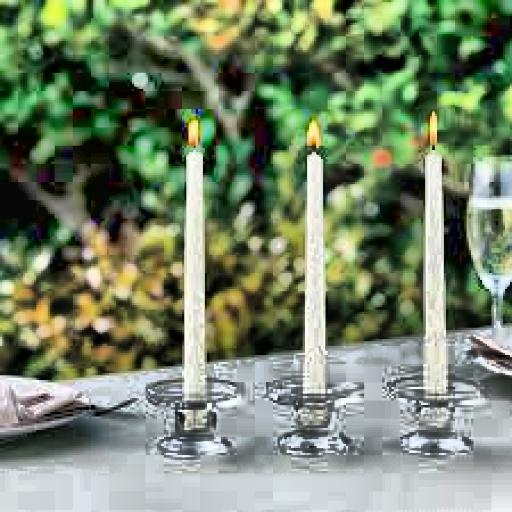fire: (298, 118, 328, 155), (177, 116, 205, 153), (424, 104, 442, 152)
